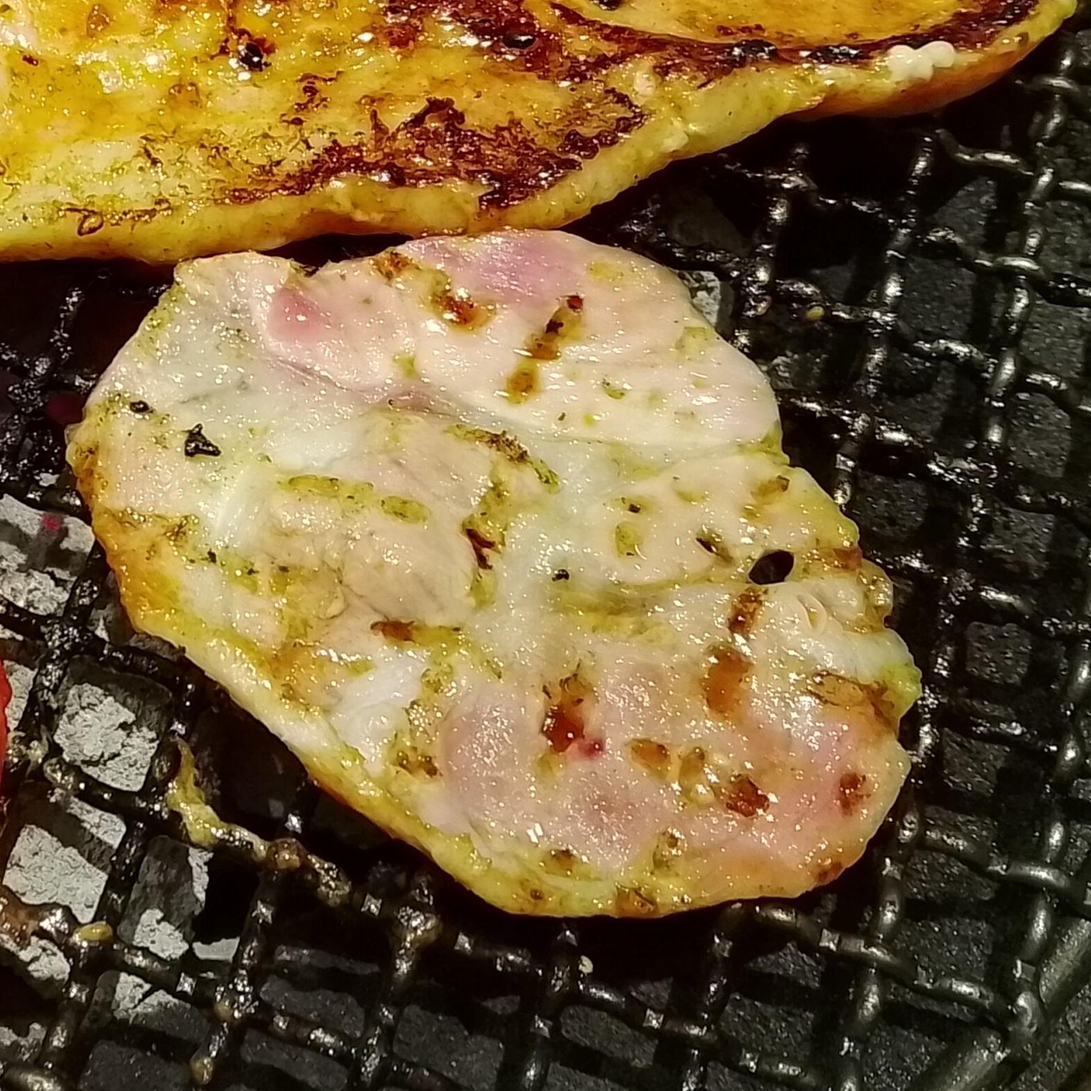Undercooked: (63, 229, 923, 923)
Well-Cooked: (0, 0, 1077, 267)
